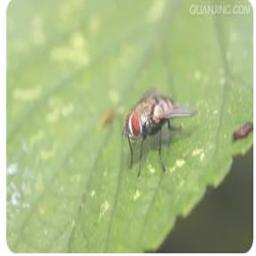liriomyza: (121, 88, 196, 177)
